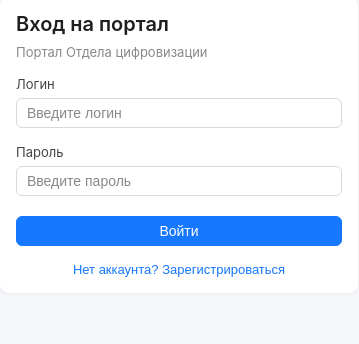
Test: LoginPage › показывает текст ошибки при неудачном входе
Click the button "Войти" at (179, 231), box [16,216,342,246]
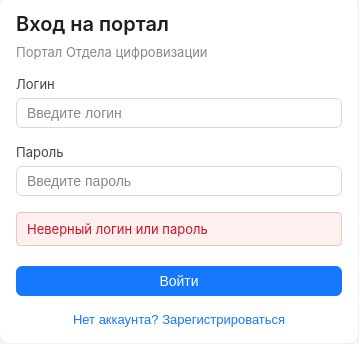
Check: the text "Неверный логин или пароль" is shown, box [16,212,342,246]
